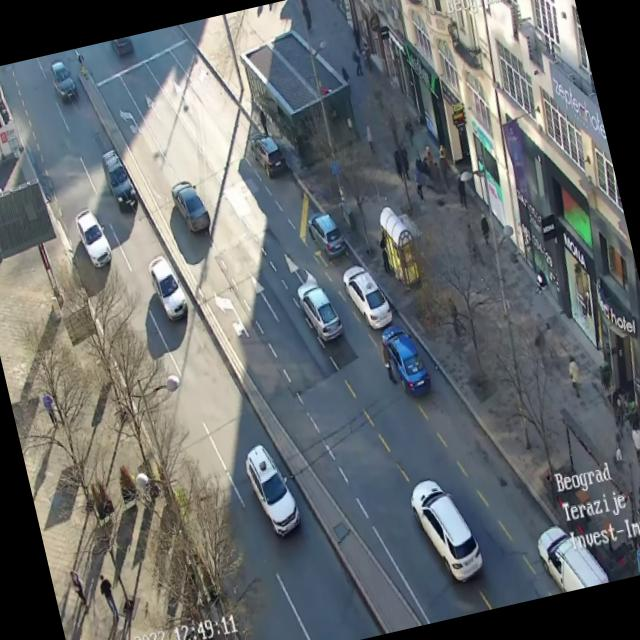car: (406, 470, 486, 590), (240, 438, 304, 542), (533, 516, 609, 595), (376, 321, 430, 400), (339, 259, 395, 334), (292, 275, 346, 347), (145, 252, 190, 324), (99, 146, 139, 215), (168, 176, 212, 238), (73, 204, 114, 270), (304, 208, 348, 264), (248, 128, 288, 180), (48, 58, 78, 103), (110, 36, 134, 60)
